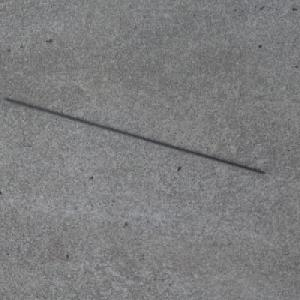LuggagePart: (3, 97, 265, 174)
